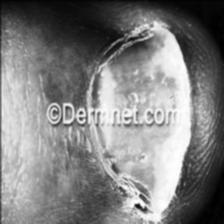Non-Cancerous Skin Condition: (78, 18, 202, 218)
